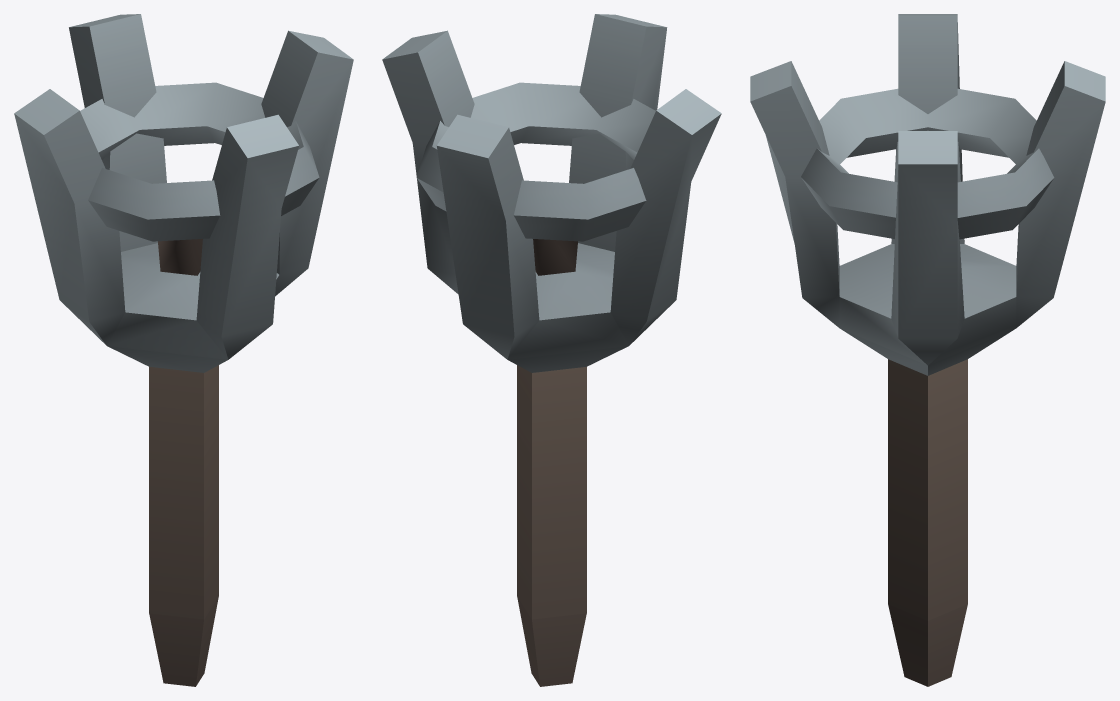
The model's file is cc0-torch-lod1.glb.
3 renders of one model, left to right at view 1: azimuth 30°, elevation 25°; view 2: azimuth 150°, elevation 25°; view 3: azimuth 270°, elevation 25°, orthographic.
Visible parts, largest first — view 1: part_0; view 2: part_0; view 3: part_0.
Boxes of the visible parts, <box> form: part_0: <box>14,14,353,686</box>; part_0: <box>382,14,721,686</box>; part_0: <box>750,14,1105,686</box>.
Size of the model in its own units: 0.5503 by 1.04 by 0.5503.
Materials: 1 (1 with a texture image).
